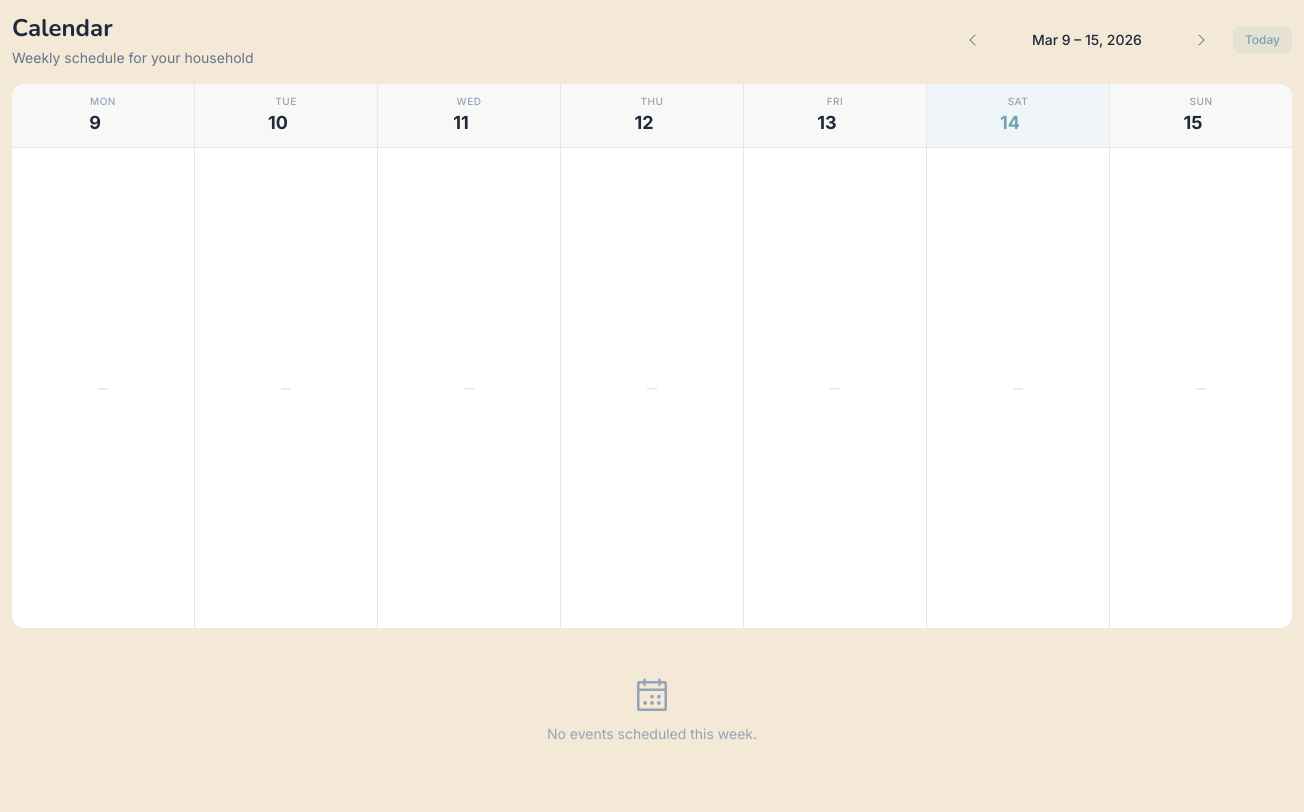
Test: WeeklyCalendar › navigates to previous week when prev button is clicked
Click the button named "Previous week".
click(973, 40)  # box left=957, top=24, right=989, bottom=56
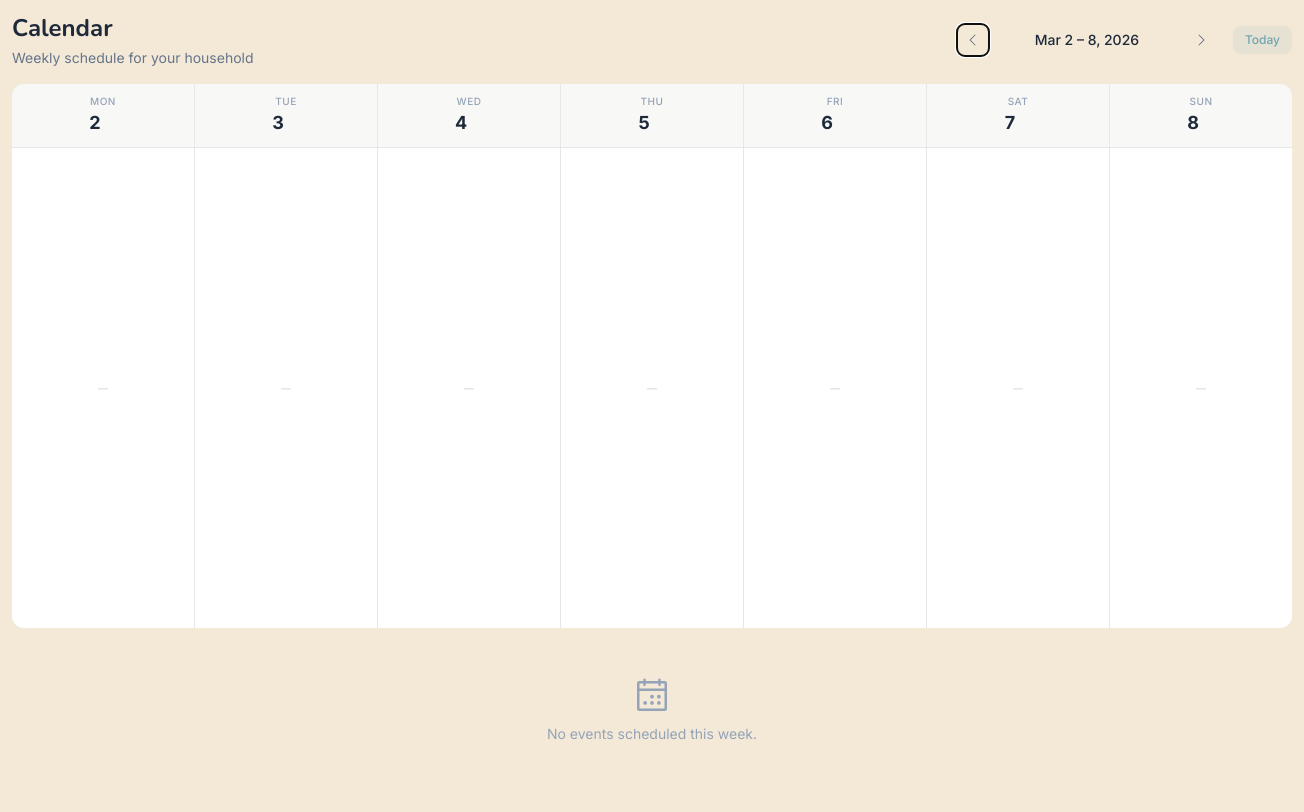
Check: the text "2" is shown, box left=89, top=109, right=101, bottom=137
Check: the text "Mar 2 – 8, 2026" is shown, box left=1035, top=31, right=1139, bottom=48
